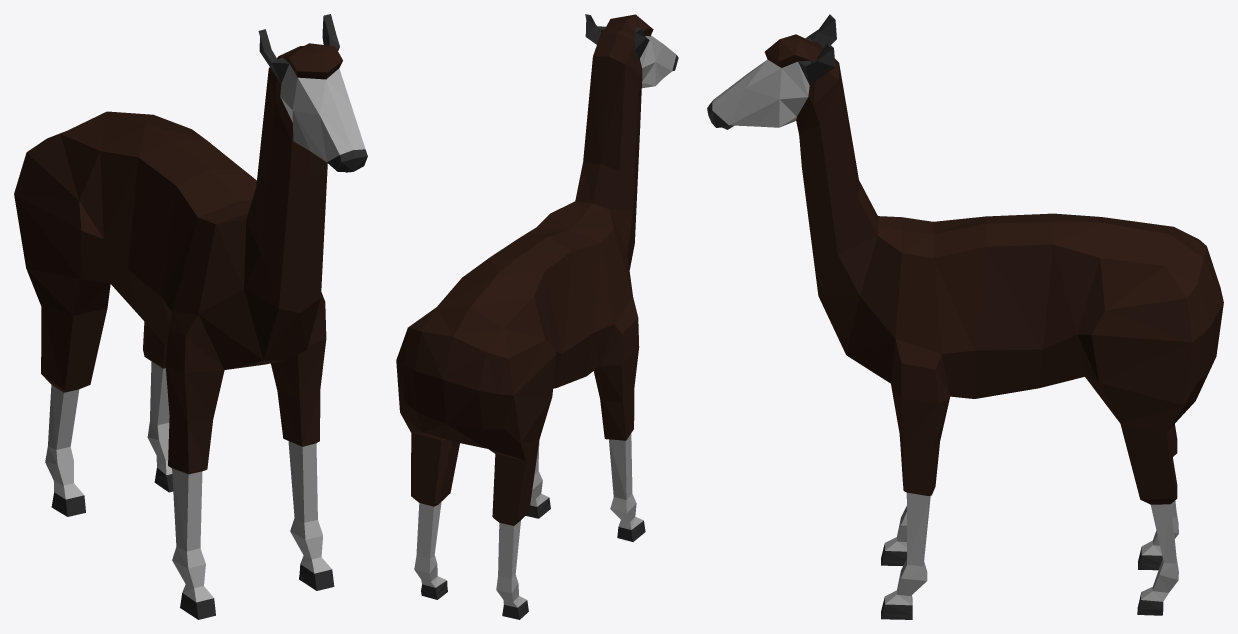
File: Llama.obj
The picture shows the model from 3 angles, left to right: view 1: azimuth 30°, elevation 25°; view 2: azimuth 150°, elevation 25°; view 3: azimuth 270°, elevation 25°; orthographic projection. The views are drawn at different scales.
Parts seen in each view (by area): view 1: Llama; view 2: Llama; view 3: Llama.
Boxes of the visible parts, left/top/right/bottom form: Llama: left=14, top=14, right=367, bottom=619; Llama: left=396, top=14, right=678, bottom=619; Llama: left=707, top=14, right=1223, bottom=619.
Bounding box in the file's own units: 1.57 × 5.86 × 4.91.
